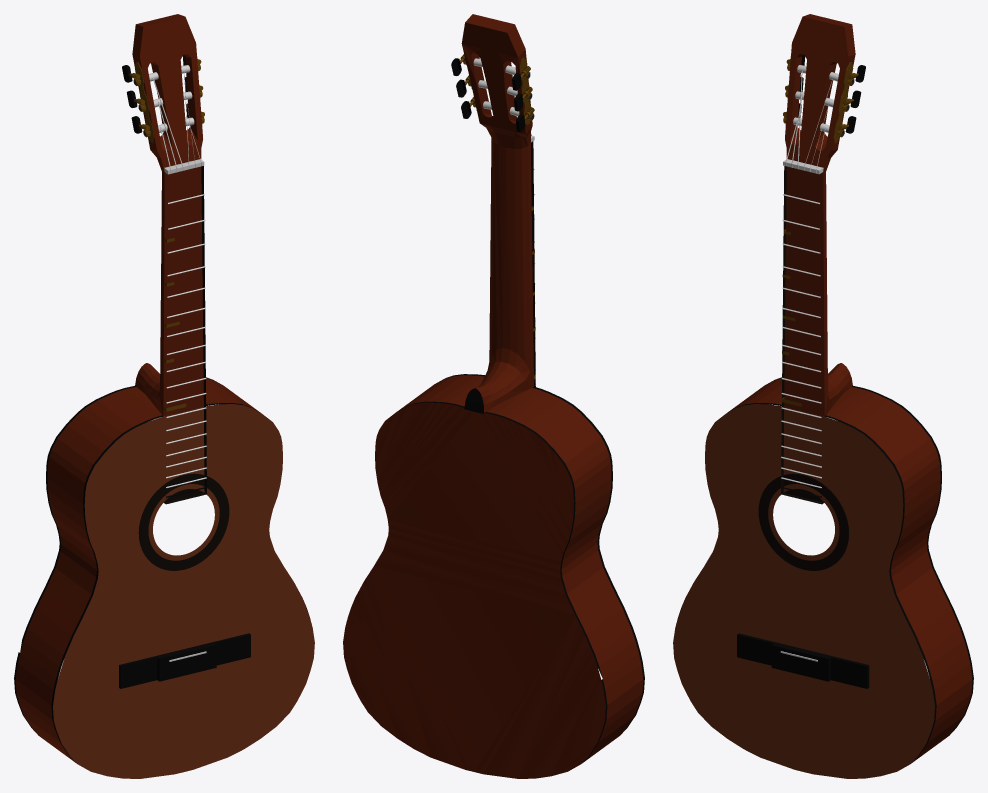
Rendered from gao-beta-6.obj.
3 renders of one model, left to right at view 1: azimuth 30°, elevation 25°; view 2: azimuth 150°, elevation 25°; view 3: azimuth 330°, elevation 25°, orthographic.
Parts seen in each view (by area): view 1: guitar.top, guitar.neck, guitar.body, guitar.misc, guitar.fingerboard, guitar.frets; view 2: guitar.body, guitar.neck, guitar.misc, guitar.fingerboard; view 3: guitar.top, guitar.neck, guitar.body, guitar.misc, guitar.frets, guitar.fingerboard.
Boxes of the visible parts, <box> form: guitar.top: <box>53,404,314,778</box>; guitar.neck: <box>132,14,203,416</box>; guitar.body: <box>14,377,309,763</box>; guitar.misc: <box>119,55,250,688</box>; guitar.fingerboard: <box>164,166,206,504</box>; guitar.frets: <box>166,194,206,488</box>; guitar.body: <box>343,374,644,778</box>; guitar.neck: <box>461,14,533,414</box>; guitar.misc: <box>451,54,534,142</box>; guitar.fingerboard: <box>531,141,535,386</box>; guitar.top: <box>673,404,934,778</box>; guitar.neck: <box>784,14,855,416</box>; guitar.body: <box>678,377,973,763</box>; guitar.misc: <box>737,55,869,688</box>; guitar.frets: <box>781,194,821,488</box>; guitar.fingerboard: <box>781,166,823,504</box>.
Bounding box in the file's own units: 0.3682 × 0.9884 × 0.1064.
